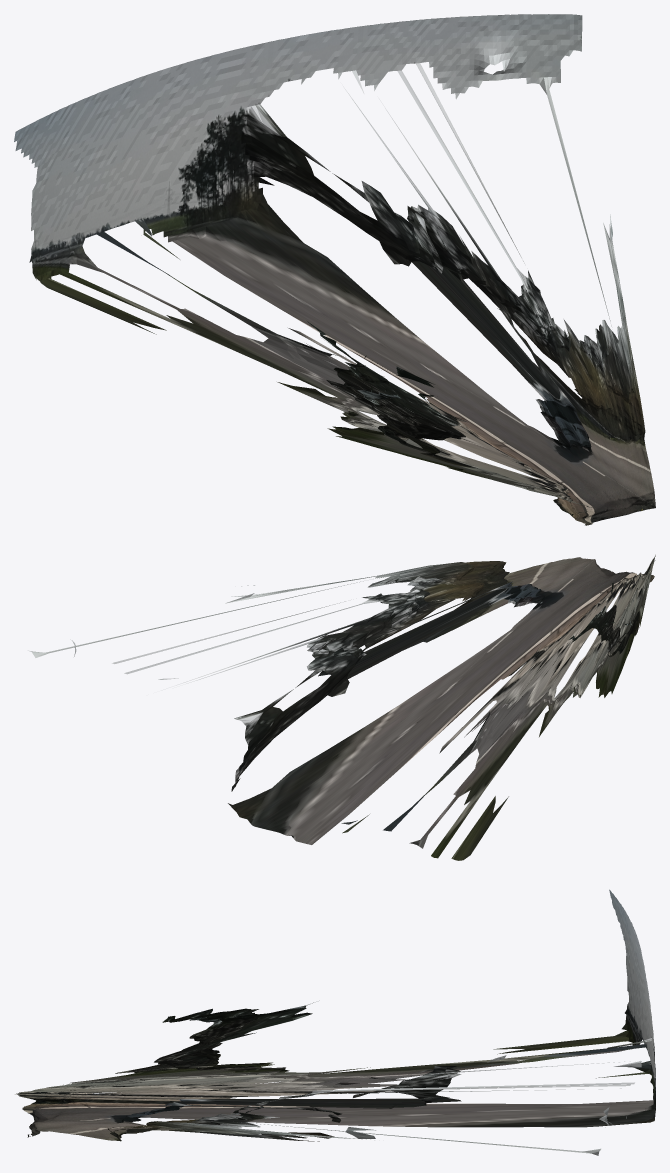
The picture shows the model from 3 angles, top to bottom: view 1: azimuth 30°, elevation 25°; view 2: azimuth 150°, elevation 25°; view 3: azimuth 270°, elevation 25°; orthographic projection. The views are drawn at different scales.
Parts seen in each view (by area): view 1: defaultobject; view 2: defaultobject; view 3: defaultobject.
Boxes of the visible parts, box(x1,y1,x2,y2) form: defaultobject: box(14, 14, 655, 525); defaultobject: box(28, 554, 655, 860); defaultobject: box(15, 889, 655, 1155).
Size of the model in its own units: 35.95 by 11.7 by 45.32.
1 material, 1 textured.
